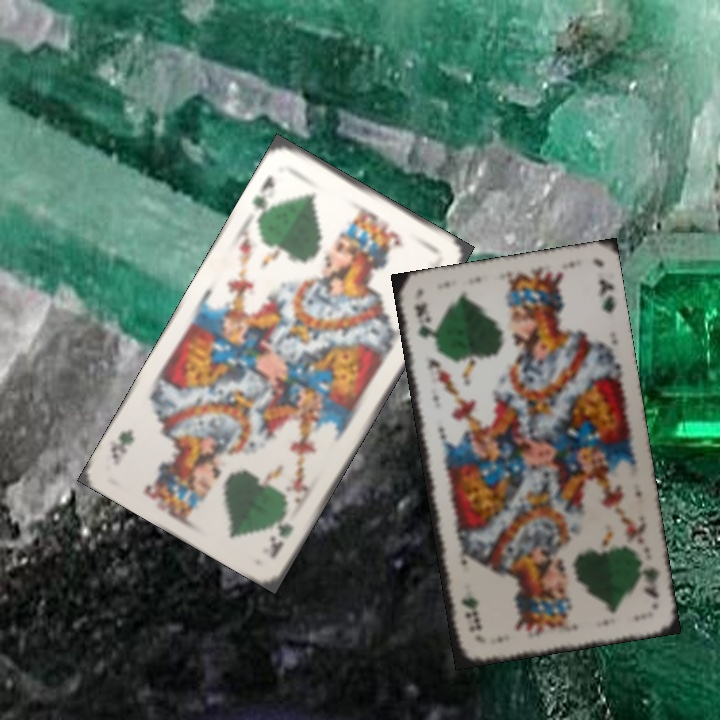GK: (265, 504, 296, 561), (248, 172, 277, 221), (409, 297, 435, 342), (639, 564, 663, 602)
